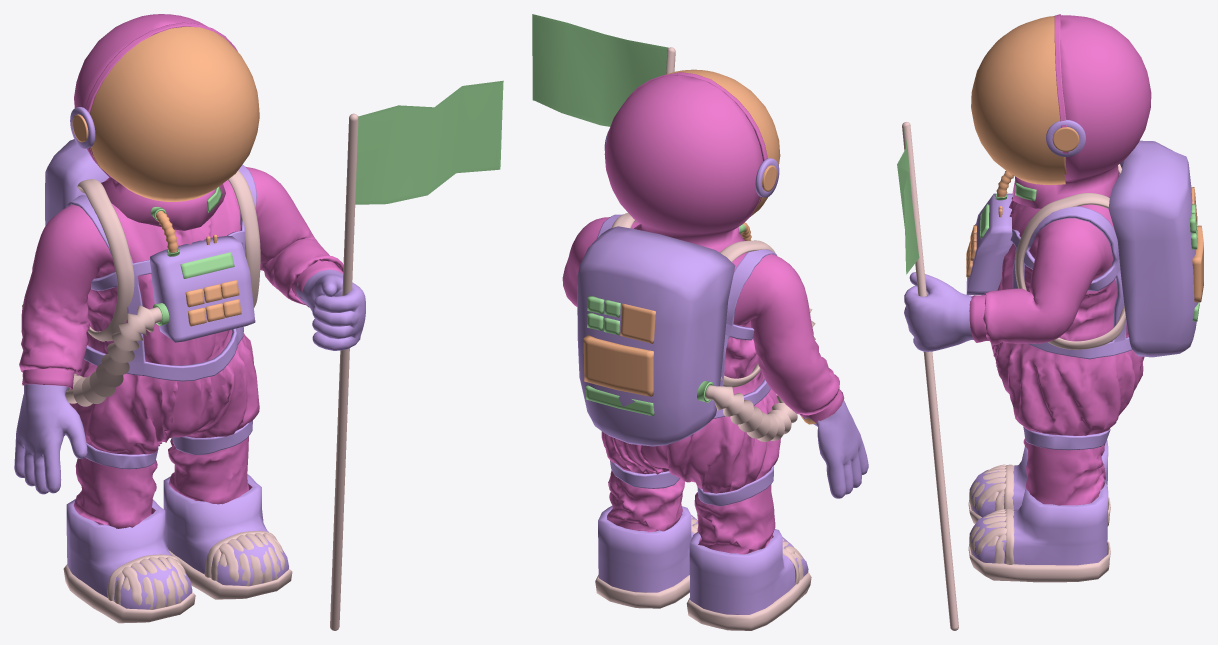
The model's file is astropink-draco.glb.
3 renders of one model, left to right at view 1: azimuth 30°, elevation 25°; view 2: azimuth 150°, elevation 25°; view 3: azimuth 270°, elevation 25°, orthographic. The views are drawn at different scales.
Visible parts, largest first — view 1: Cube.097; view 2: Cube.097; view 3: Cube.097.
Part boxes in pixels (bbox=[...]): Cube.097: bbox=[14, 14, 503, 630]; Cube.097: bbox=[532, 14, 868, 630]; Cube.097: bbox=[897, 14, 1203, 630].
Size of the model in its own units: 2.38 by 3.28 by 1.64.
